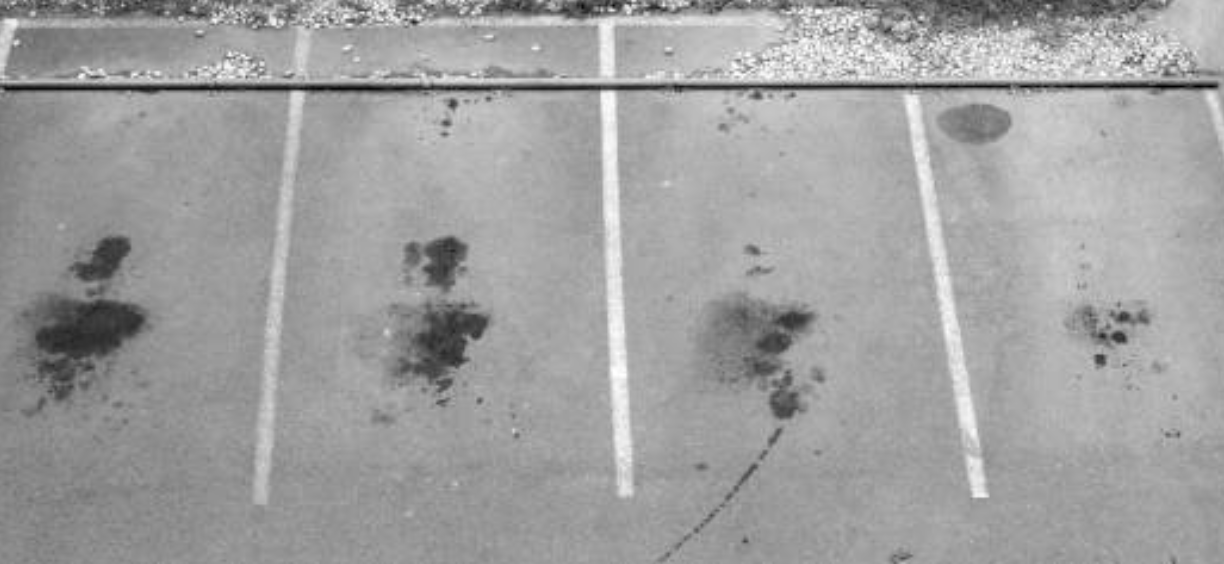oil: (10, 116, 80, 216), (194, 118, 249, 206), (359, 146, 414, 220), (535, 152, 582, 188), (470, 50, 512, 73)
